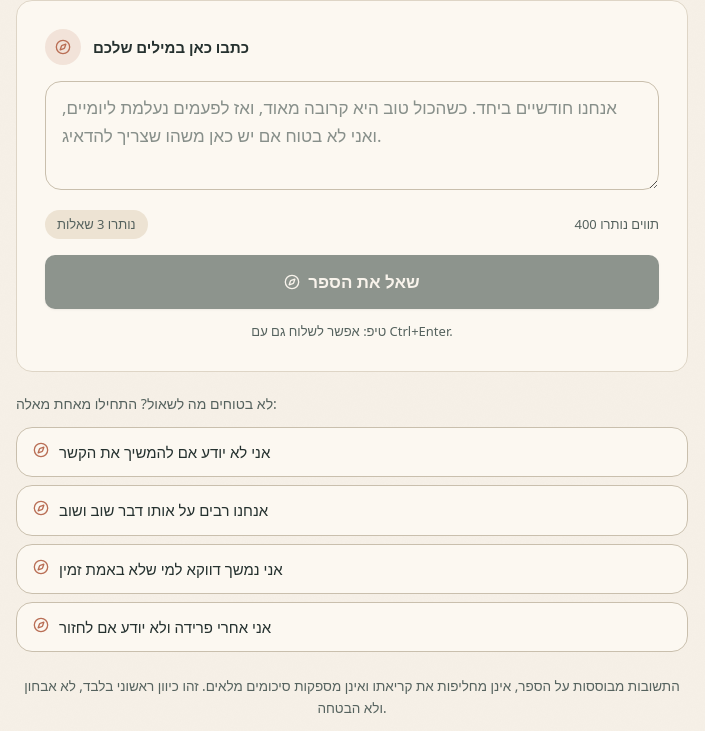
Test: CompassConsole, attention line (focus) › does NOT render it on a quota-limit response
The width and height of the screenshot is (705, 731).
Replace the text in the text box labelled "כתבו כאן במילים שלכם" with "מה קורה כשהיא מתרחקת לפעמים?" at (352, 135), box [45,81,659,190]
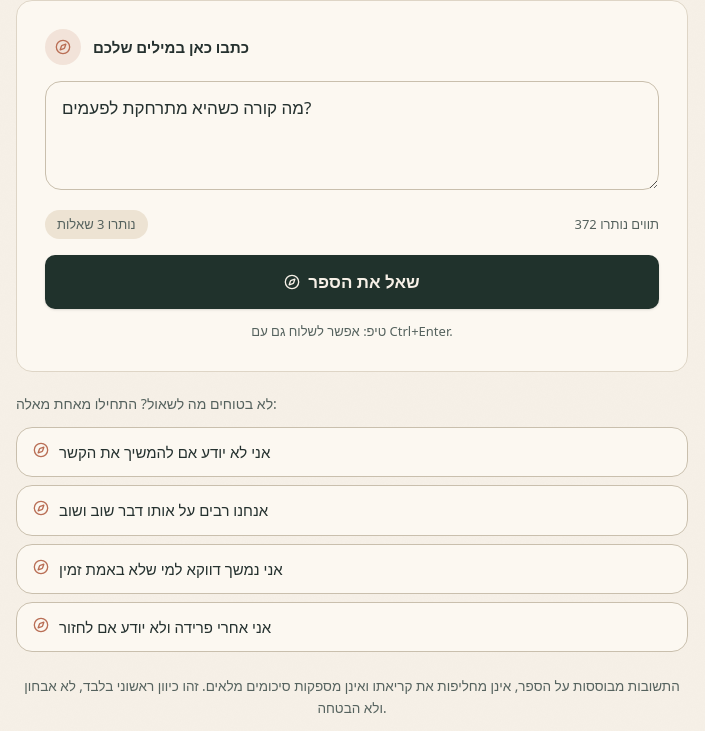
Click the button "שאל את הספר" at (352, 282), box [45,255,659,309]
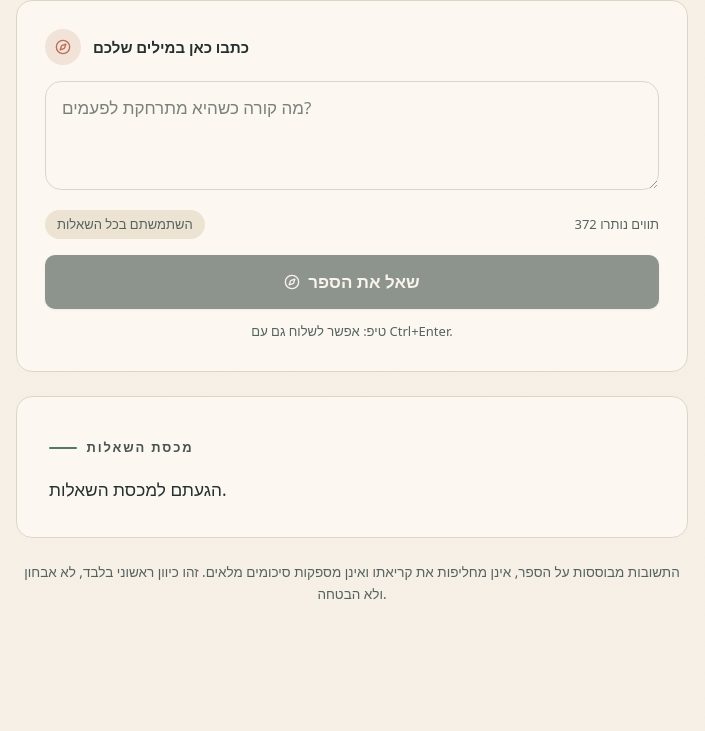
Expected: the text "הגעתם למכסת השאלות." is shown, [49,478,227,500]
